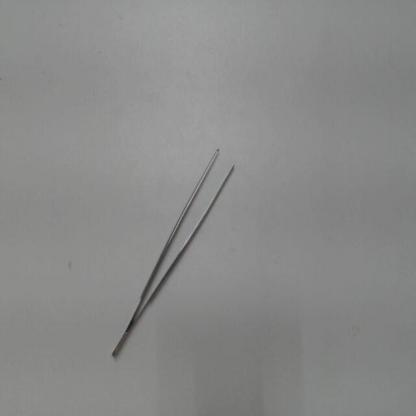Gillies Toothed Dissector: (101, 139, 248, 372)
